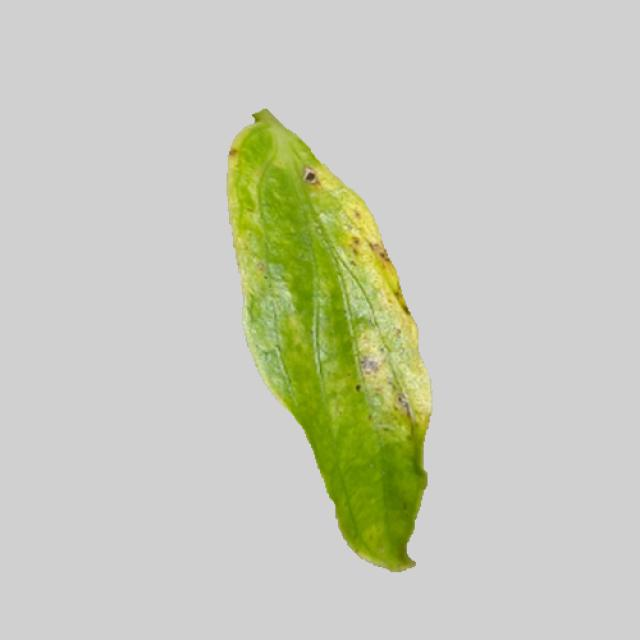yellow-mottle-virus: (193, 104, 438, 576)
